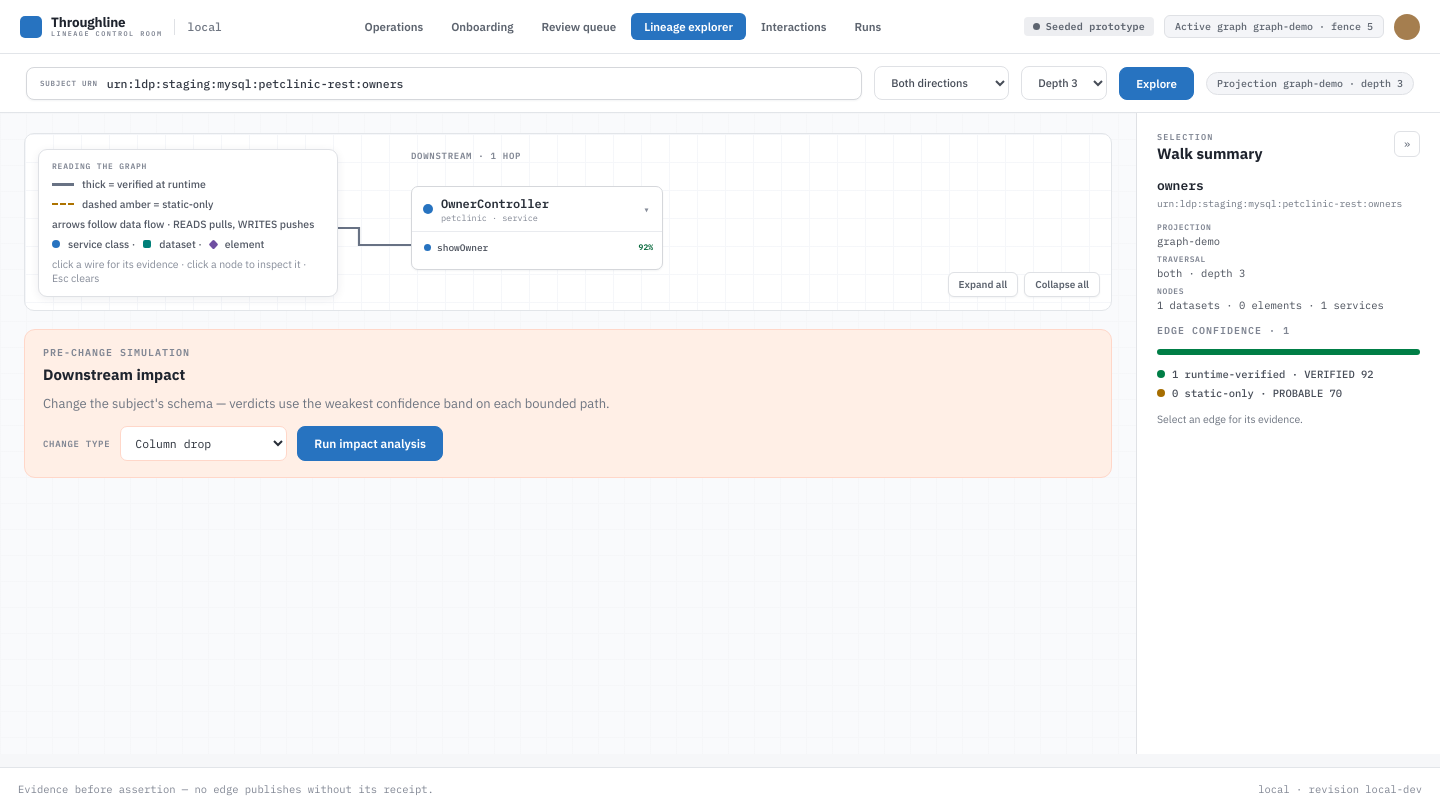
Test case: Escape clears the selection back to the walk summary
Click the button with aria-label "Select node OwnerController#showOwner" at x=537, y=247, box [412,232,662,262]
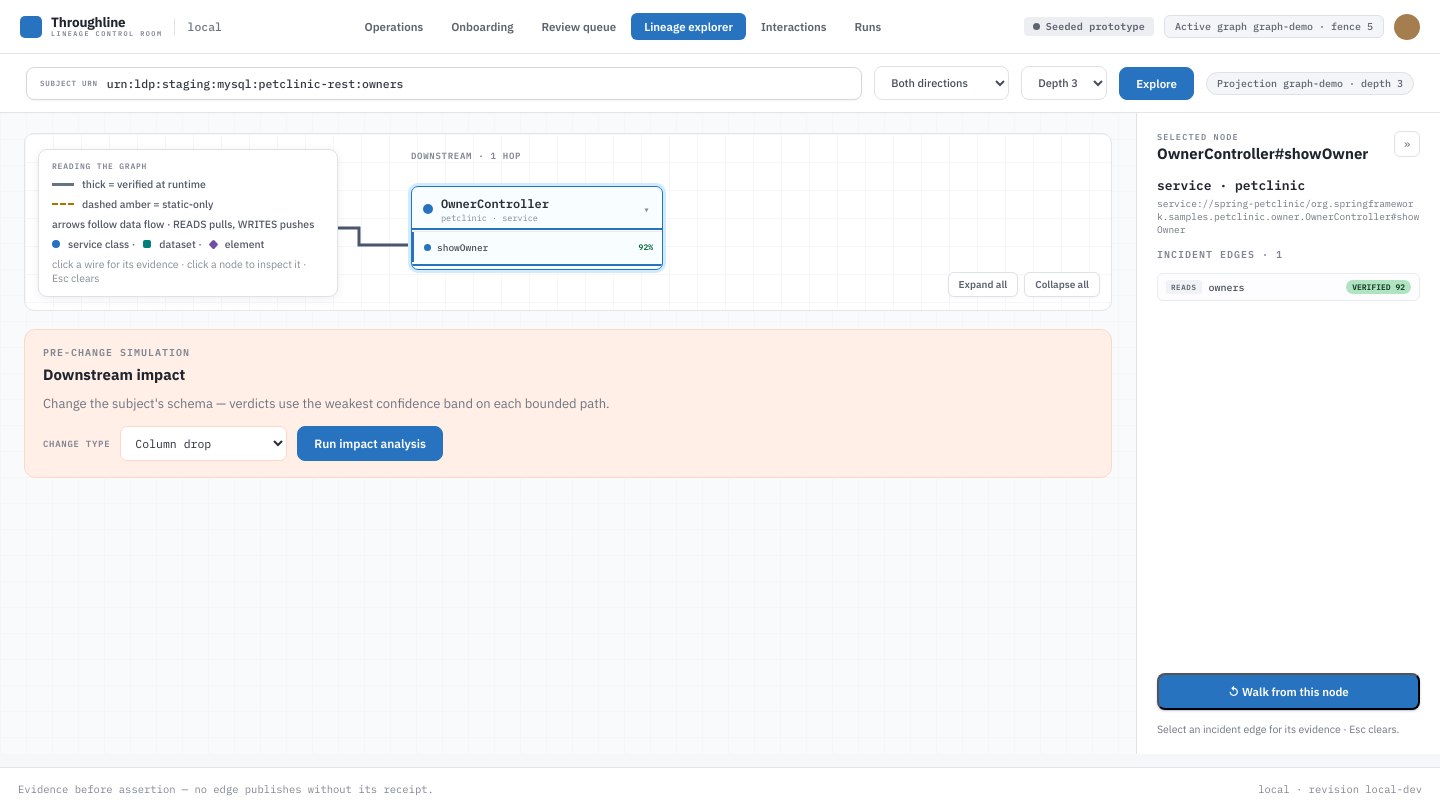
Result: the heading "OwnerController#showOwner" is shown at [1157,142,1368,165]
Press Escape
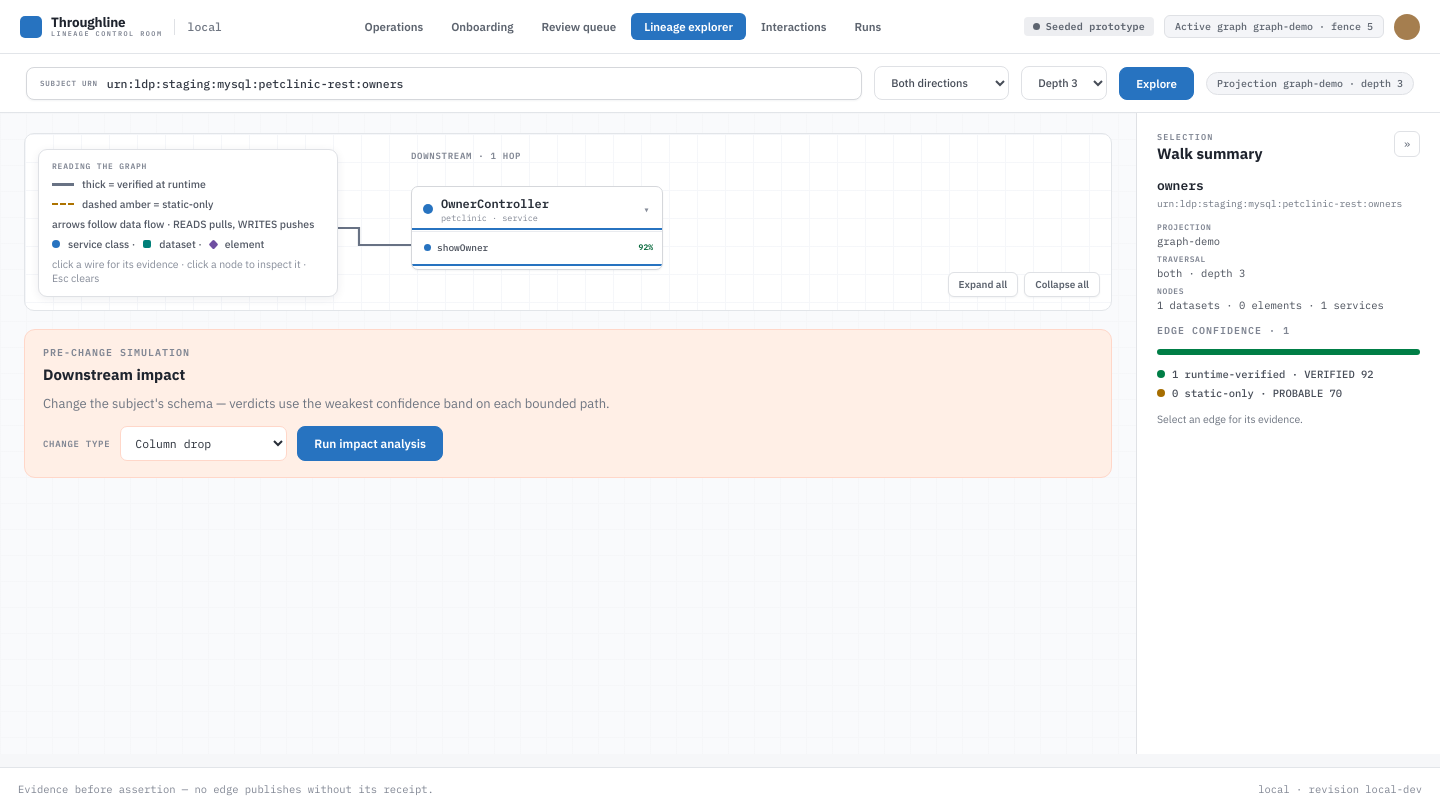
Result: the heading "OwnerController#showOwner" is gone
Result: the heading "Walk summary" is shown at [1157,142,1262,165]
